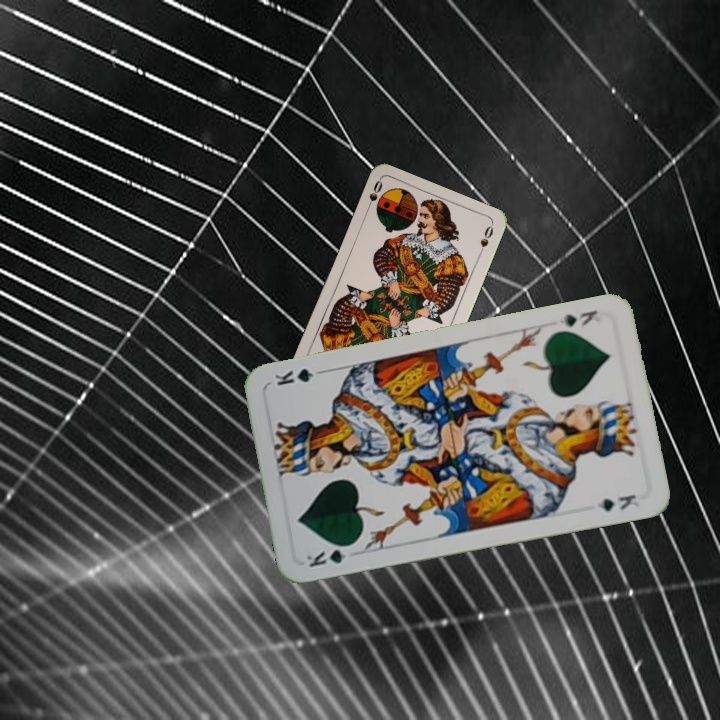GK: (302, 540, 358, 570), (555, 306, 600, 330)
SO: (361, 176, 385, 215)
